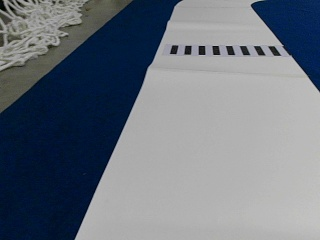crosswalk: (166, 43, 282, 57)
